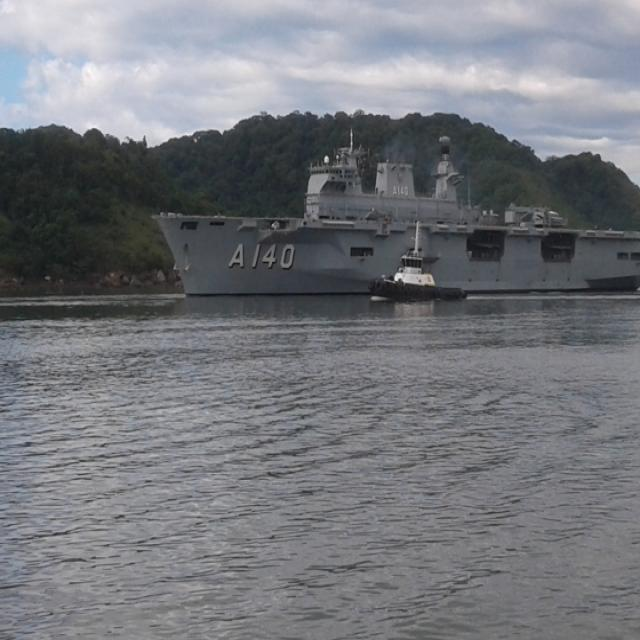Portanaves: (143, 118, 640, 309)
